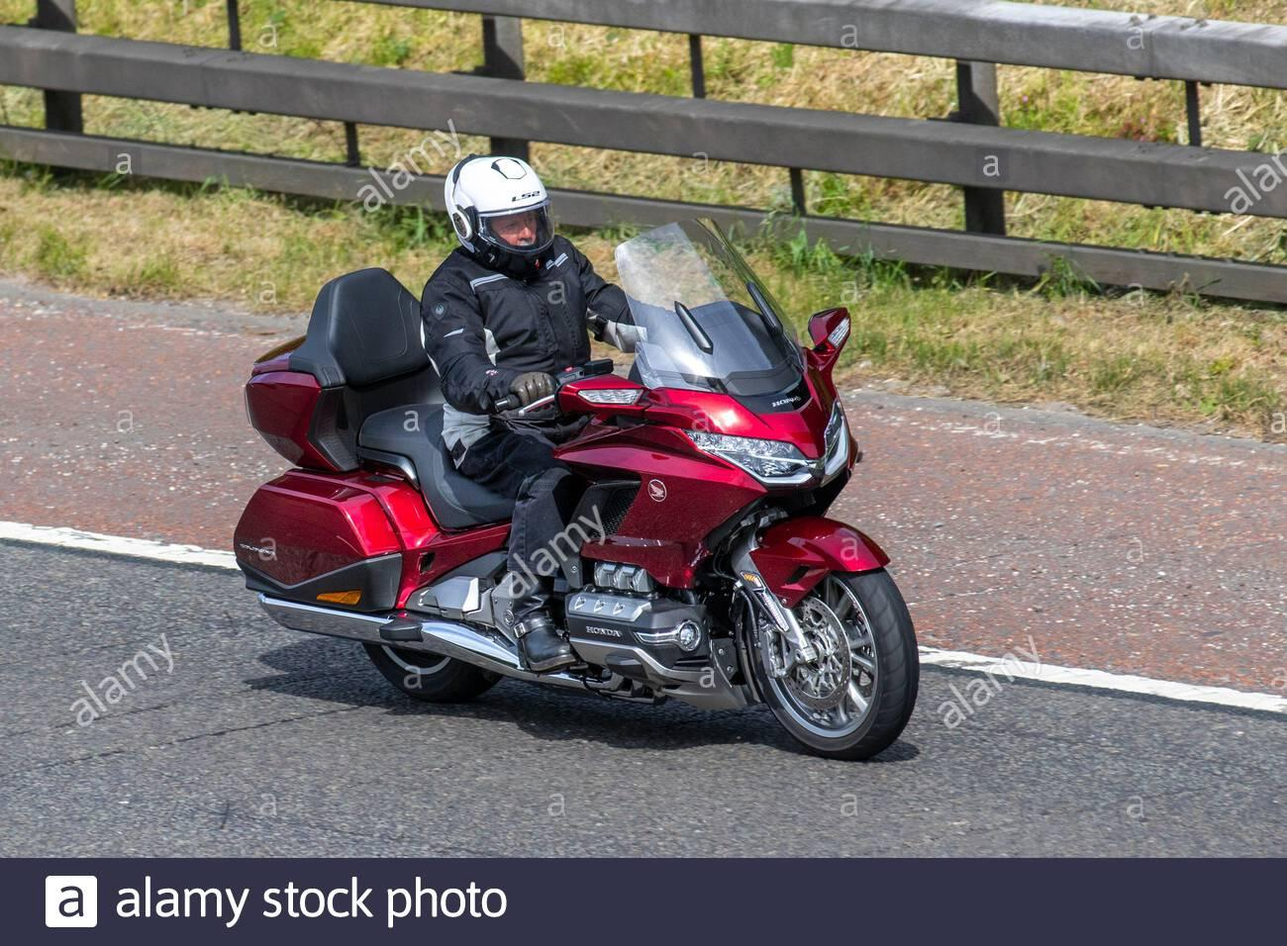helmet: (427, 143, 580, 284)
